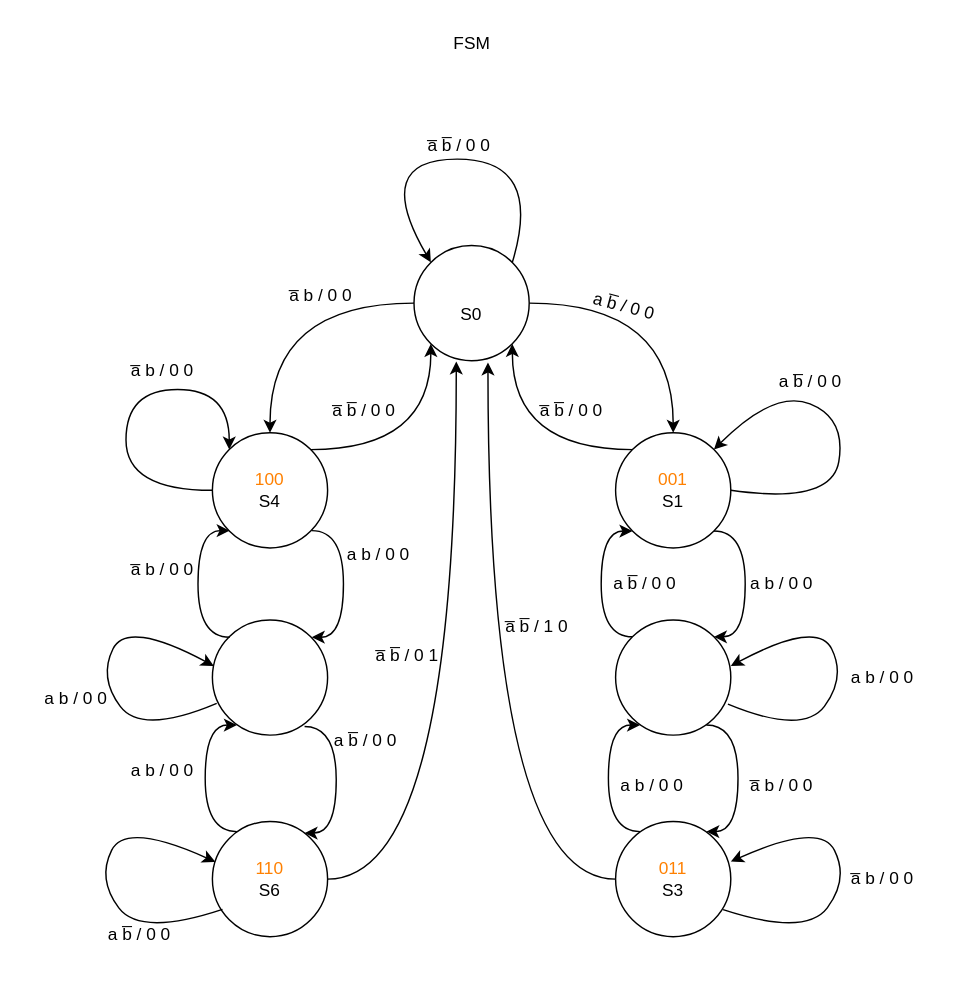
The diagram is 956 pixels wide and 981 high, and some of its shapes have lost their labels. Each missing label, with the box of its shape:
010 S2: (614, 618, 731, 735)
101 S5: (211, 618, 328, 735)
